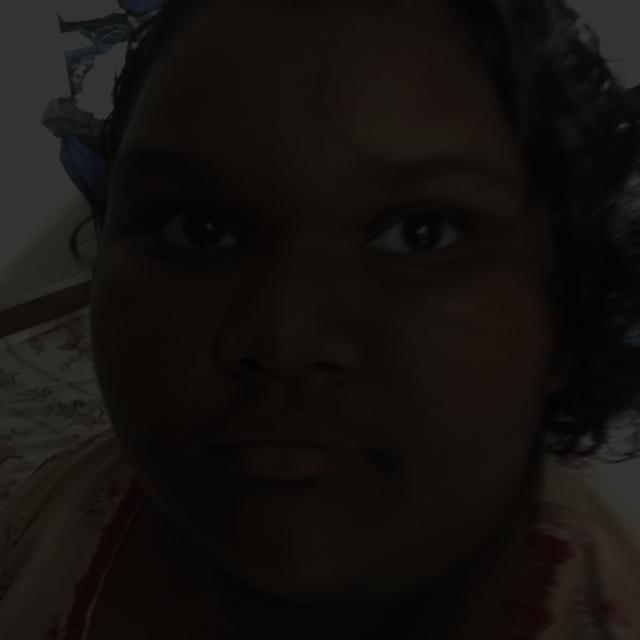Natural: (65, 103, 572, 580)
